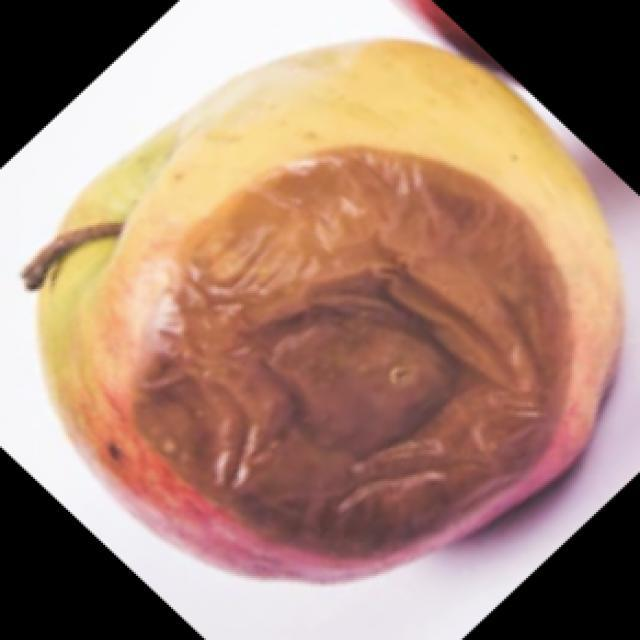Rotten: (61, 50, 612, 543)
